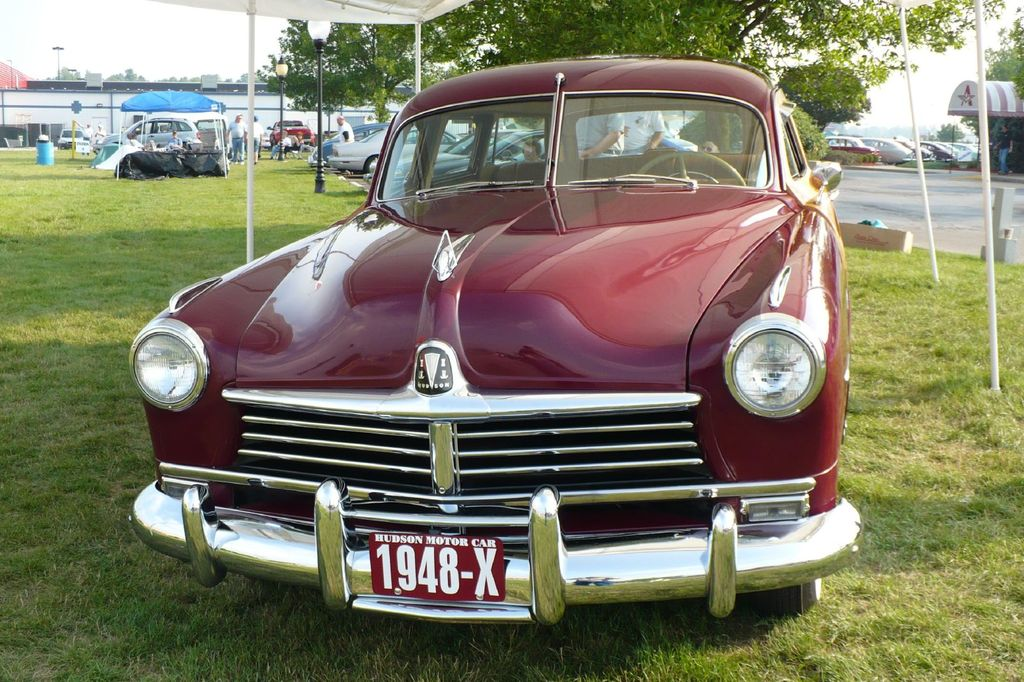Car: (129, 56, 853, 610), (331, 126, 455, 174), (866, 138, 912, 161), (272, 119, 304, 145), (823, 133, 870, 149)
